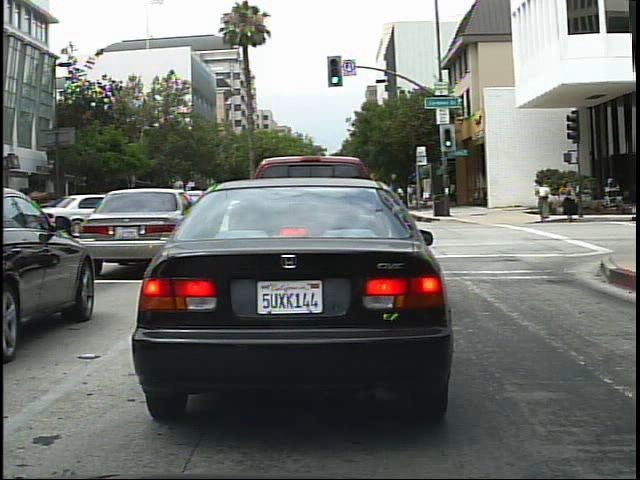person: (534, 172, 557, 226), (558, 175, 582, 223), (402, 180, 419, 212)
